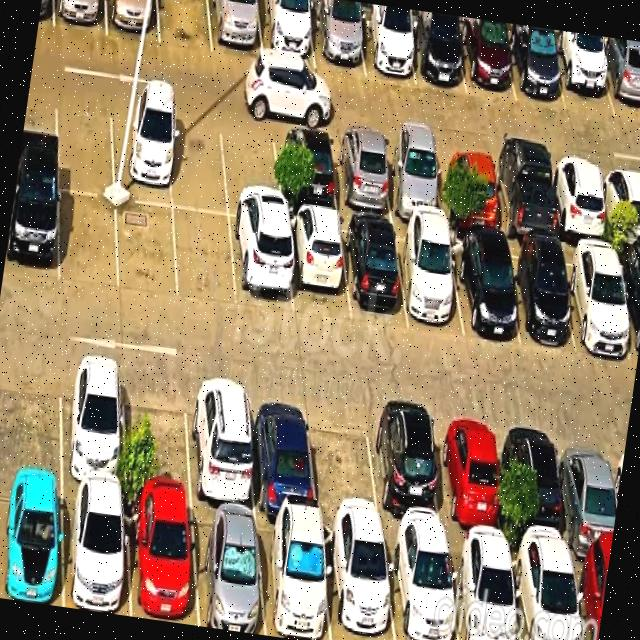empty: (308, 396, 381, 530), (124, 366, 192, 503), (0, 350, 61, 482), (220, 118, 282, 223), (173, 209, 237, 307), (117, 200, 178, 302), (169, 111, 228, 214), (56, 93, 114, 196), (60, 191, 119, 290), (158, 0, 213, 53)
occupied: (367, 404, 446, 538), (190, 506, 266, 636), (433, 410, 505, 547), (125, 497, 198, 626), (257, 515, 331, 640), (187, 376, 255, 512), (248, 385, 317, 518), (505, 418, 571, 553), (61, 356, 126, 493), (64, 486, 130, 617), (322, 523, 395, 640), (560, 245, 633, 358), (0, 479, 62, 607), (558, 426, 618, 558), (384, 535, 459, 640), (448, 236, 520, 345), (501, 242, 575, 348), (395, 226, 464, 337), (447, 540, 520, 640), (341, 218, 408, 326), (286, 212, 350, 321), (510, 548, 582, 640), (110, 102, 172, 207), (230, 219, 293, 315), (490, 153, 557, 243), (3, 179, 59, 283), (436, 146, 501, 233), (274, 126, 338, 213), (381, 138, 445, 223), (330, 132, 393, 218), (550, 35, 615, 117), (549, 159, 610, 244), (506, 26, 566, 110), (458, 20, 516, 101), (406, 17, 466, 93), (356, 10, 415, 84), (257, 0, 315, 69), (310, 3, 365, 75), (596, 40, 640, 121), (208, 0, 263, 62), (571, 554, 610, 640), (600, 165, 640, 247), (615, 251, 640, 363), (106, 0, 160, 43), (54, 0, 107, 35)
